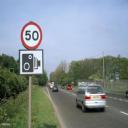speed_limit_50: (20, 22, 43, 50)
